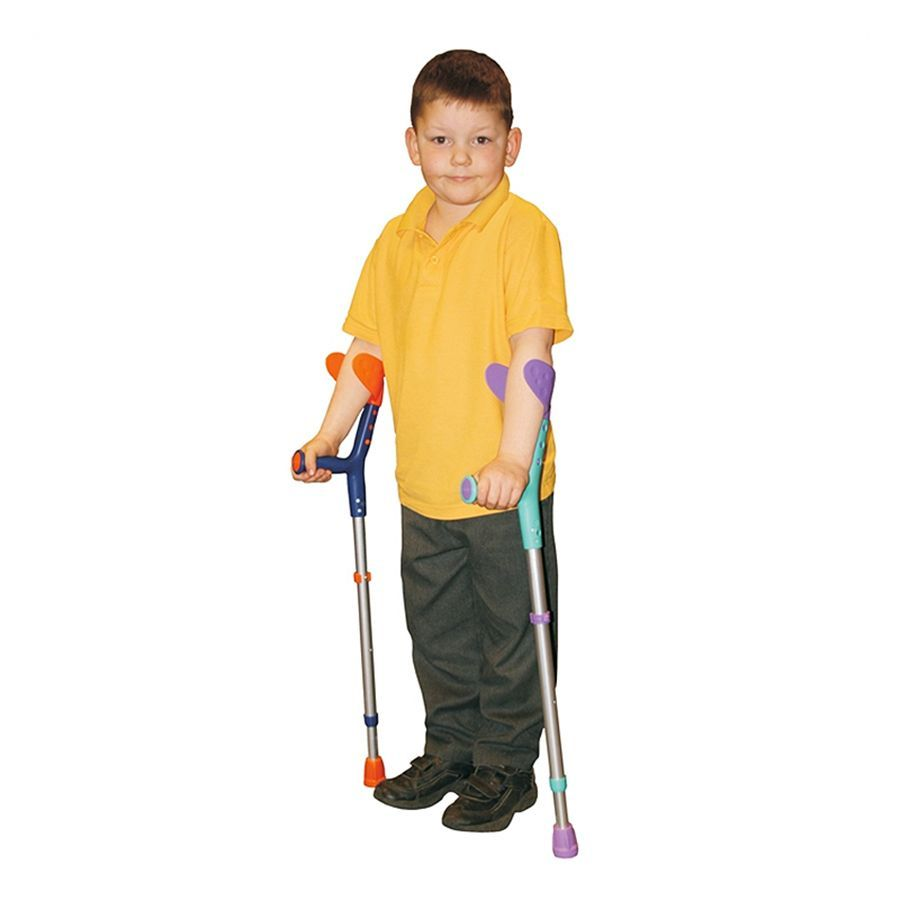crutches: (284, 48, 581, 862)
